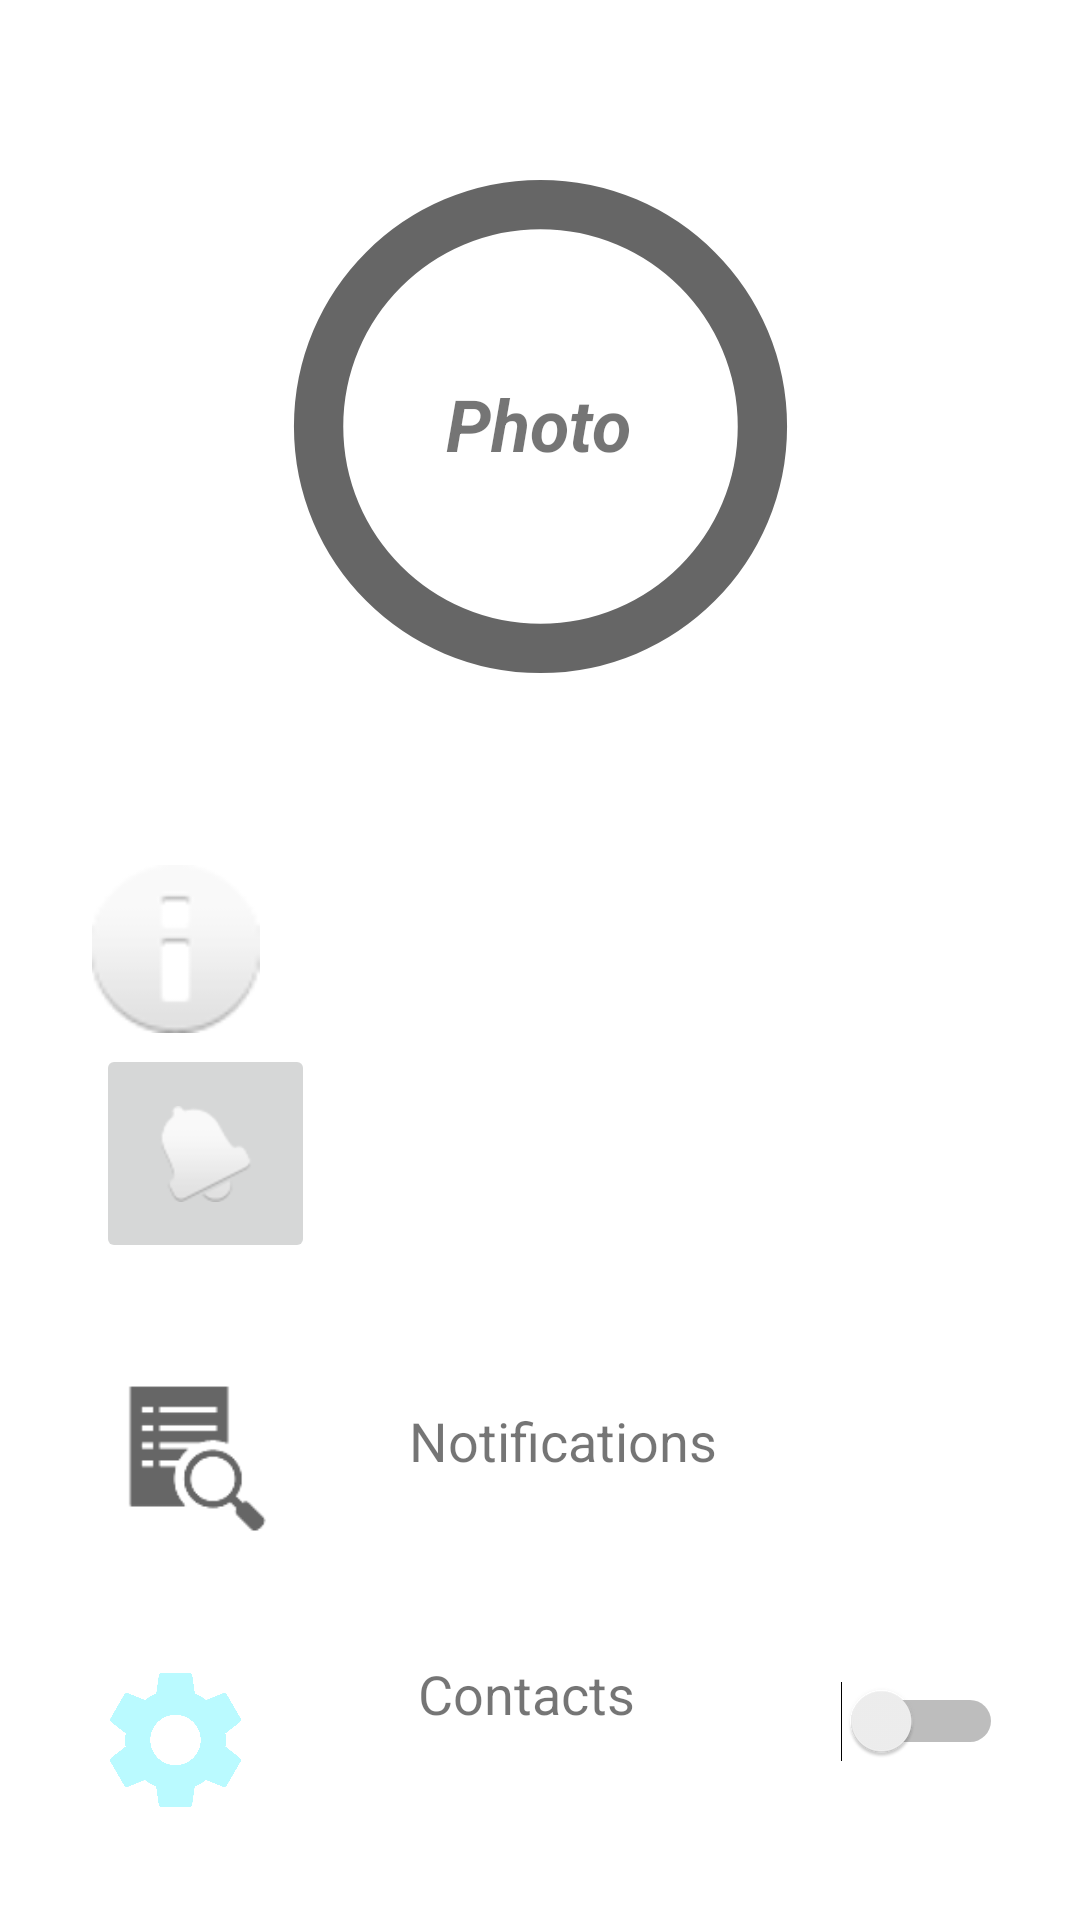

Icon click points for this 1080x1920 phone screenshot, format [x,y]:
info: [176,964]
popup reminder: [205,1153]
settings: [175,1740]
